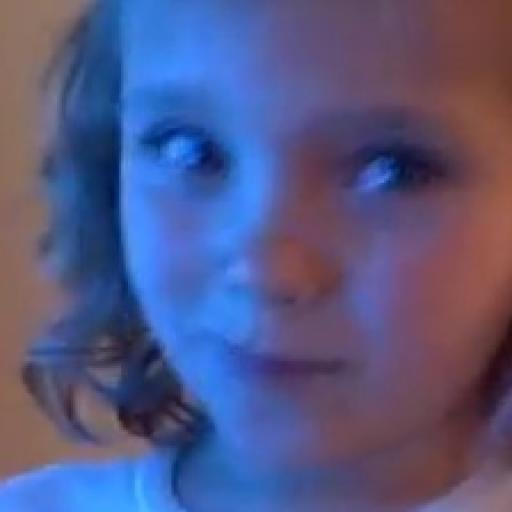Autism: (113, 0, 512, 512)
